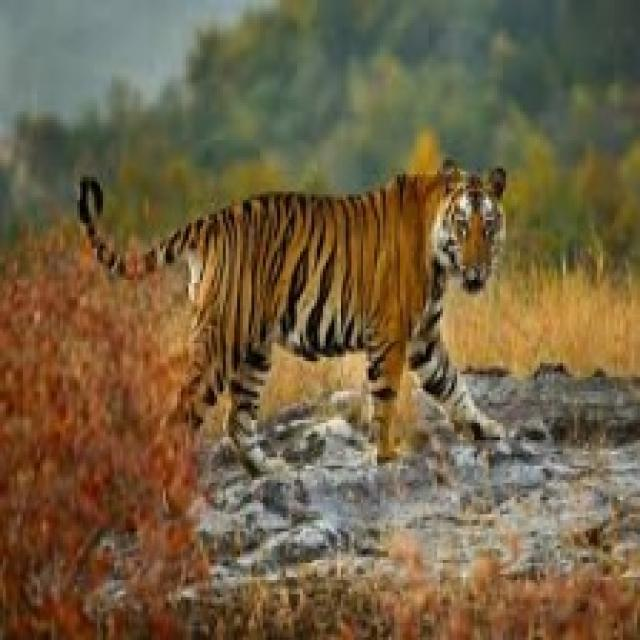bear: (67, 160, 576, 496)
